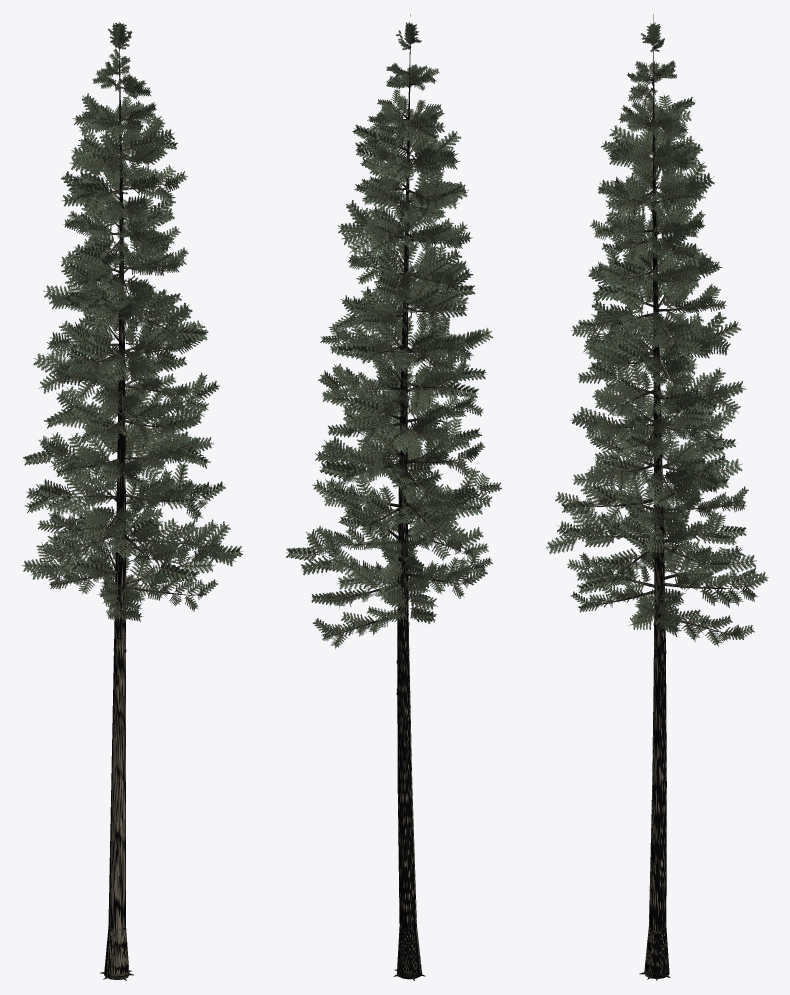
The model's file is Sitka_Mature_02_MediumPruned_Healed_LOD0.fbx.
The picture shows the model from 3 angles, left to right: view 1: azimuth 30°, elevation 25°; view 2: azimuth 150°, elevation 25°; view 3: azimuth 270°, elevation 25°; orthographic projection.
Visible parts, largest first — view 1: Sitka_Mature_02_MediumPruned_Healed_LOD0; view 2: Sitka_Mature_02_MediumPruned_Healed_LOD0; view 3: Sitka_Mature_02_MediumPruned_Healed_LOD0.
Boxes of the visible parts, x1=… form: Sitka_Mature_02_MediumPruned_Healed_LOD0: x1=22, y1=21, x2=243, y2=980; Sitka_Mature_02_MediumPruned_Healed_LOD0: x1=286, y1=14, x2=501, y2=980; Sitka_Mature_02_MediumPruned_Healed_LOD0: x1=546, y1=14, x2=768, y2=980.
Size of the model in its own units: 568 by 2600 by 586.
3 materials, 3 textured.
